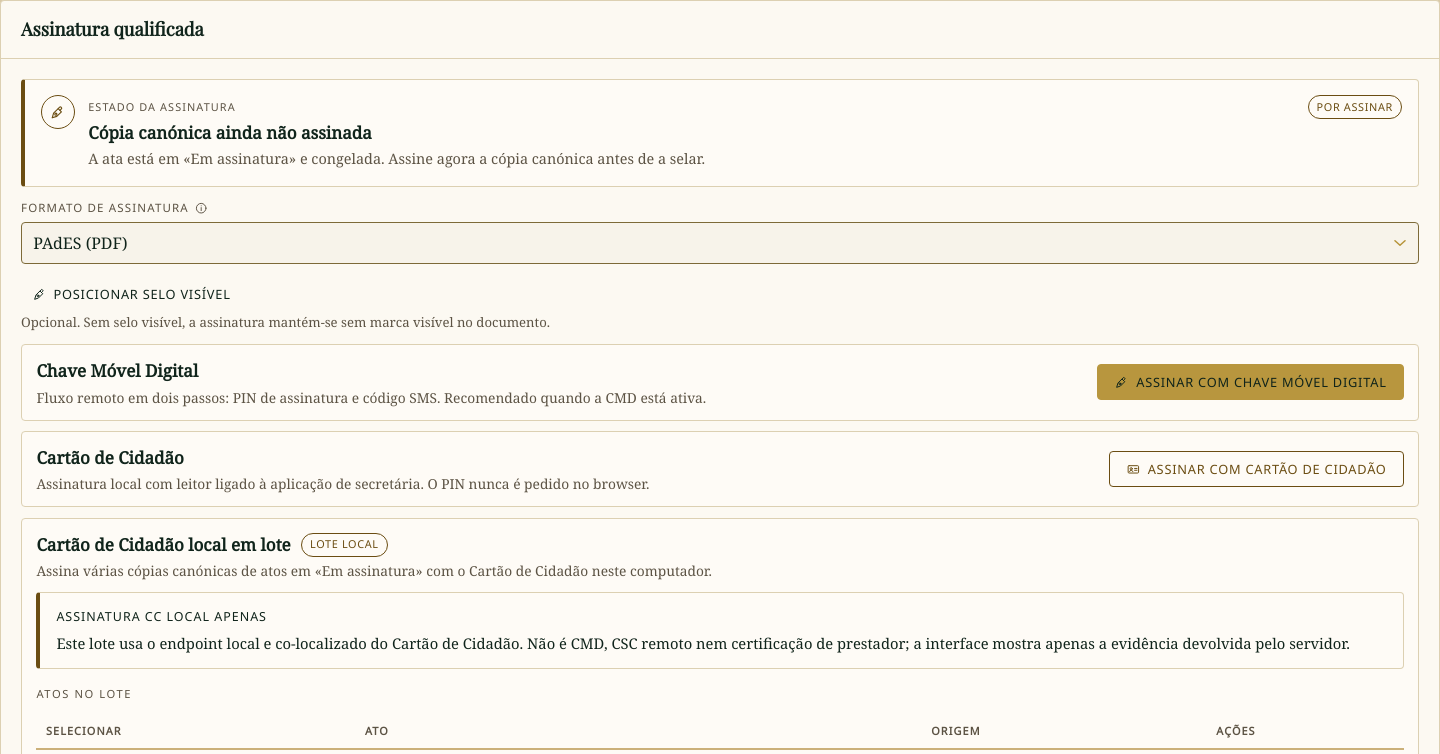
Test: SigningPanel — Cartão de Cidadão › keeps a structured CC PIN rejection visible after clearing mutation state
Click the button "Assinar com Cartão de Cidadão" at (1256, 469), box [1109,451,1404,487]
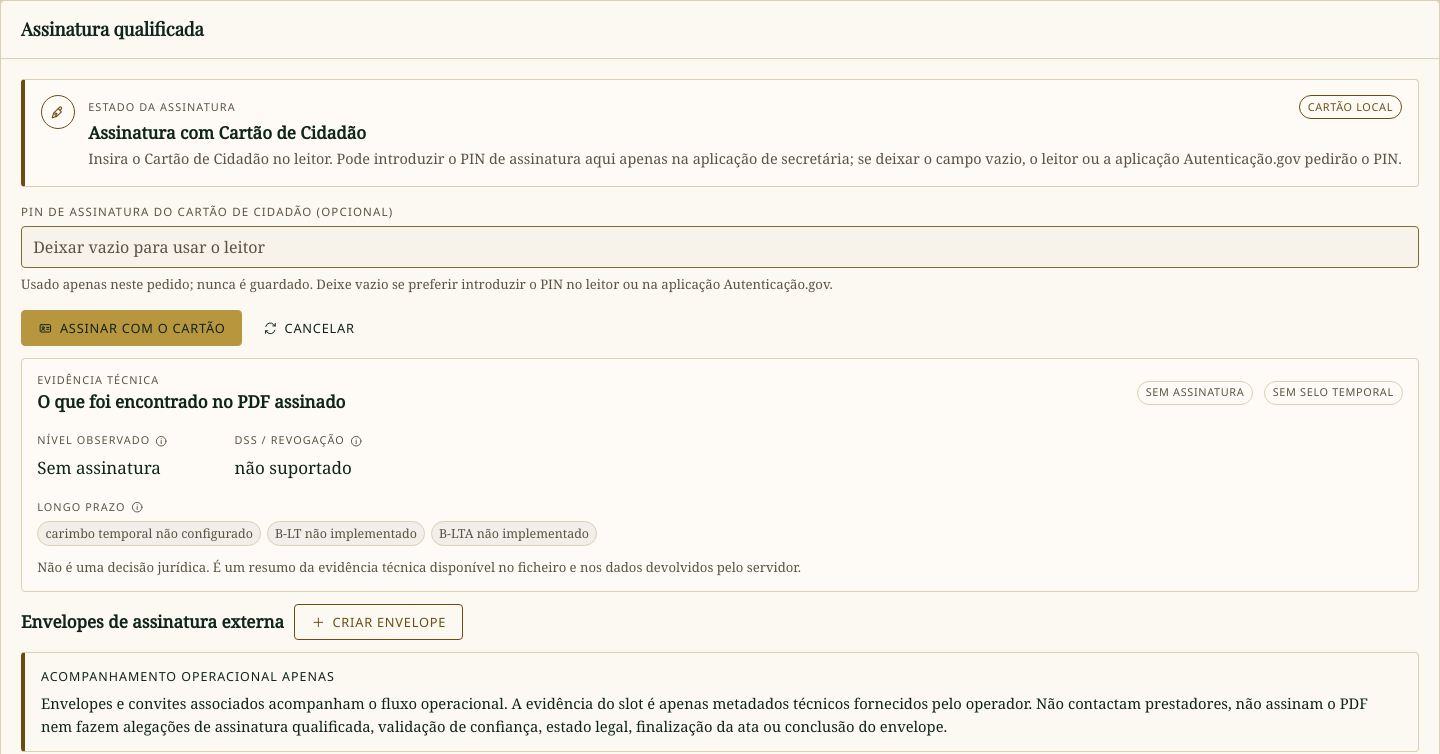
Type "0000" into the password field labelled "PIN de assinatura do Cartão de Cidadão (opcional)" at (720, 247), box [21,226,1419,268]
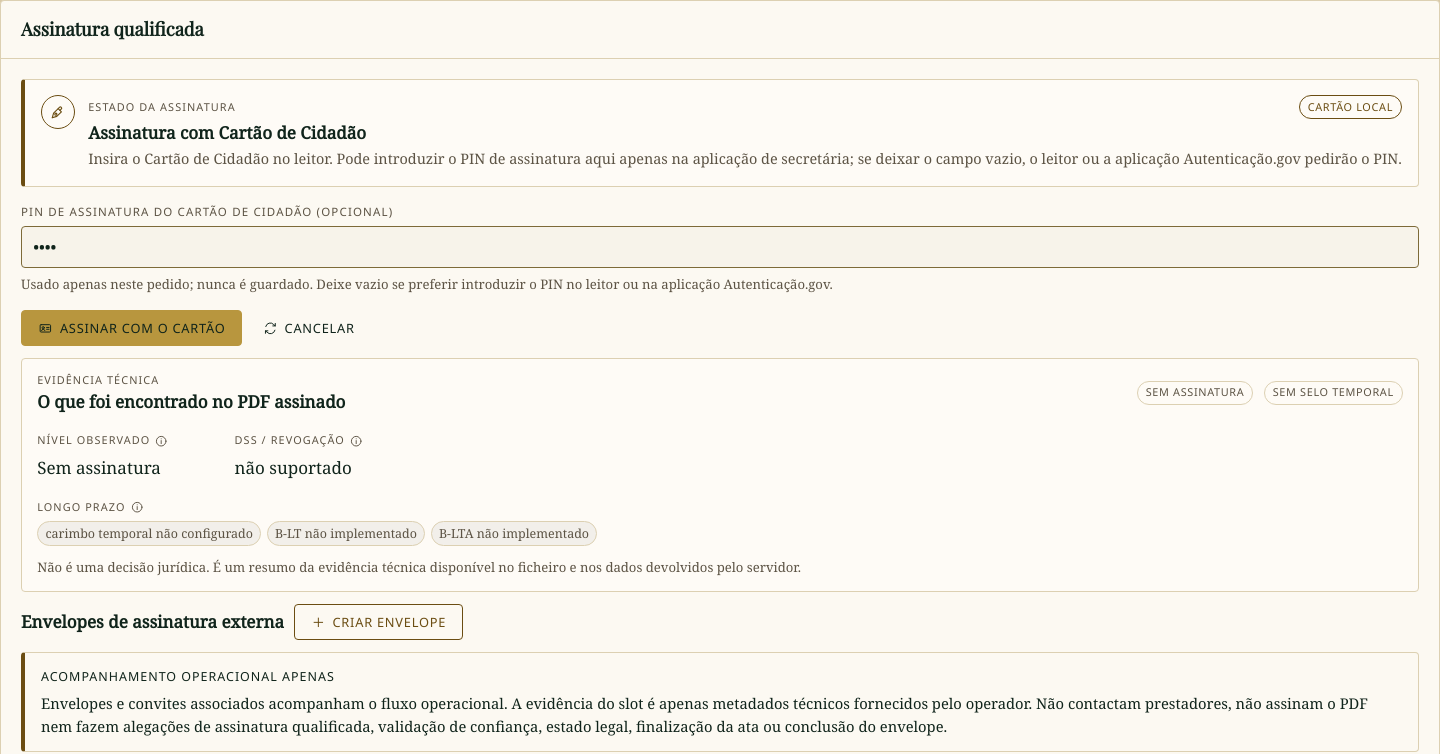
Click the button "Assinar com o cartão" at (132, 328), box [21,310,242,346]
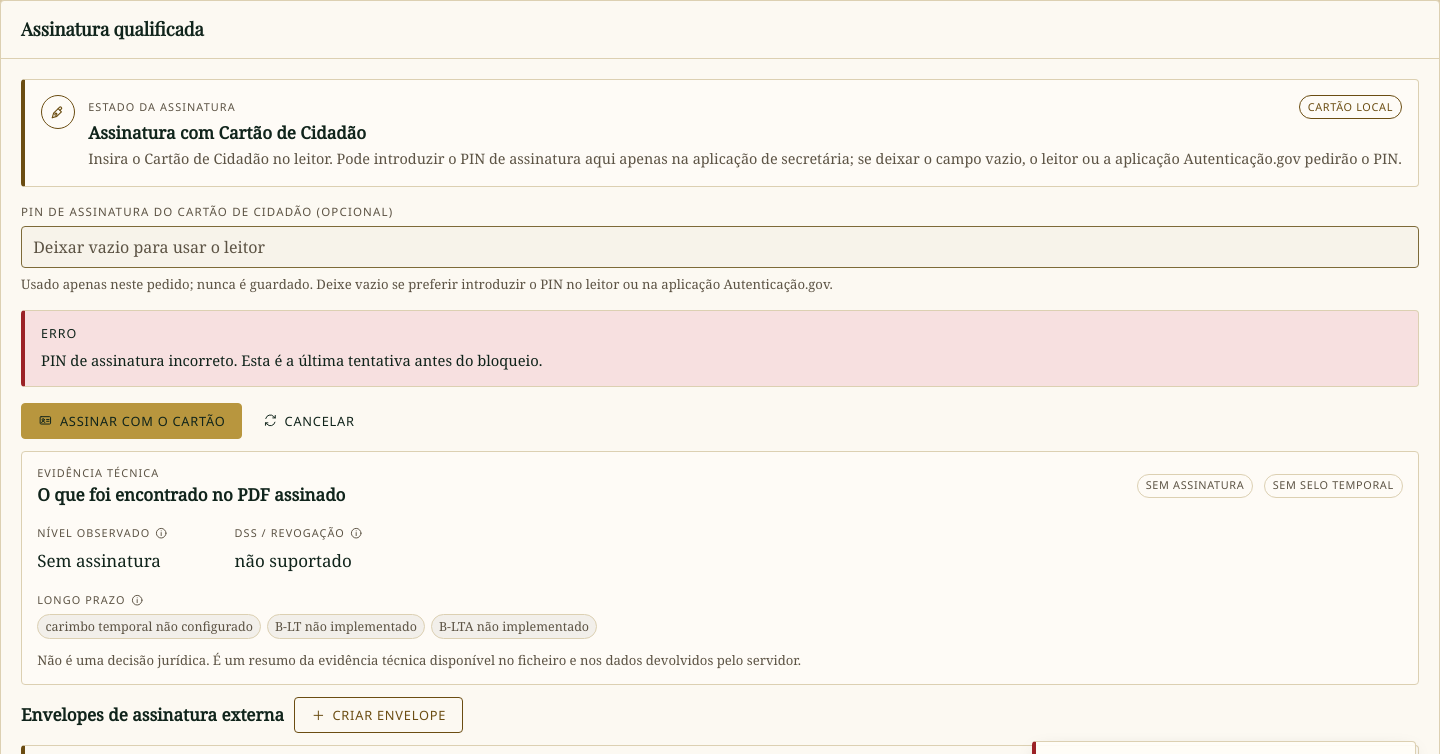
Check: the button "Assinar com o cartão" is shown, box [21,403,242,439]
Check: the text "última tentativa" is shown, box [41,350,542,370]
Check: the password field labelled "PIN de assinatura do Cartão de Cidadão (opcional)" is empty, box [21,226,1419,268]
